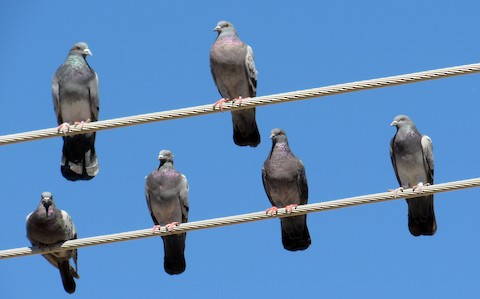pigeon: (43, 36, 109, 184), (134, 146, 199, 278), (205, 17, 266, 149), (386, 109, 446, 240), (257, 124, 315, 255), (24, 190, 90, 294)
